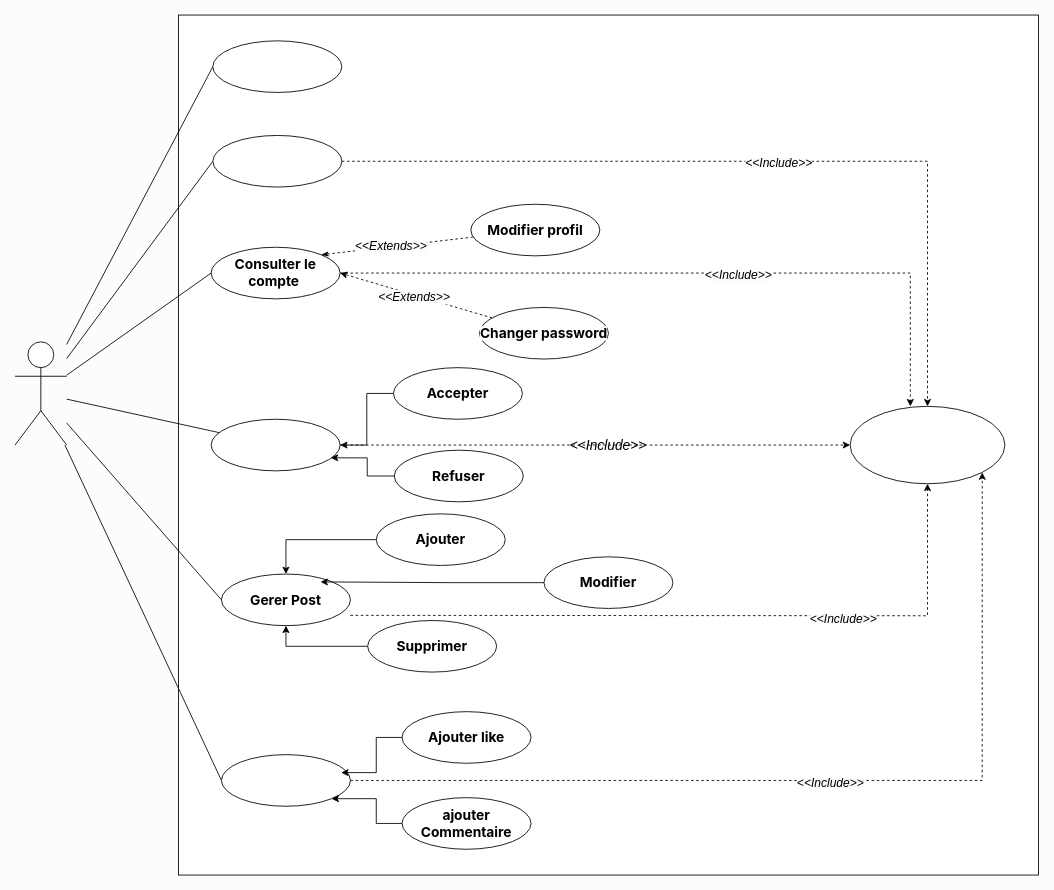
Some shapes in this 1054 by 890 pixel diagram are drawn without their labels. The shapes that lost their labels are listed below. From the top down, each one's centre as x and y in pixels, then its label:
At point 277,66: "S'inscrire".
At point 277,161: "Se Connecter".
At point 40,393: "Actor".
At point 275,444: "Gerer les amis".
At point 927,444: "Authentificatoion".
At point 285,780: "Interagir avec un post".
